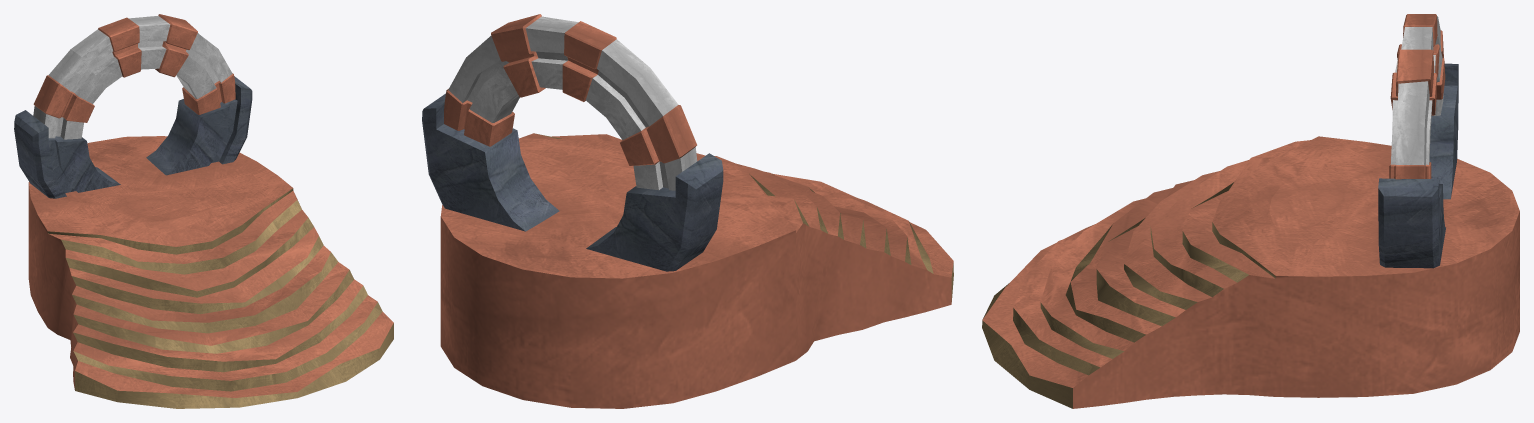
Rendered from Portal01.glb.
3 views of the same model, side by side, from view 1: azimuth 30°, elevation 25°; view 2: azimuth 150°, elevation 25°; view 3: azimuth 270°, elevation 25° (orthographic). The views are drawn at different scales.
Parts seen in each view (by area): view 1: Portal01; view 2: Portal01; view 3: Portal01.
Part boxes in pixels (box(x1,y1,x2,y2)): Portal01: box(14, 14, 393, 408); Portal01: box(422, 14, 953, 408); Portal01: box(982, 14, 1519, 408).
Size of what is drawn, in the model's own units: 17.68 by 14.27 by 22.51.
2 materials, 2 textured.
